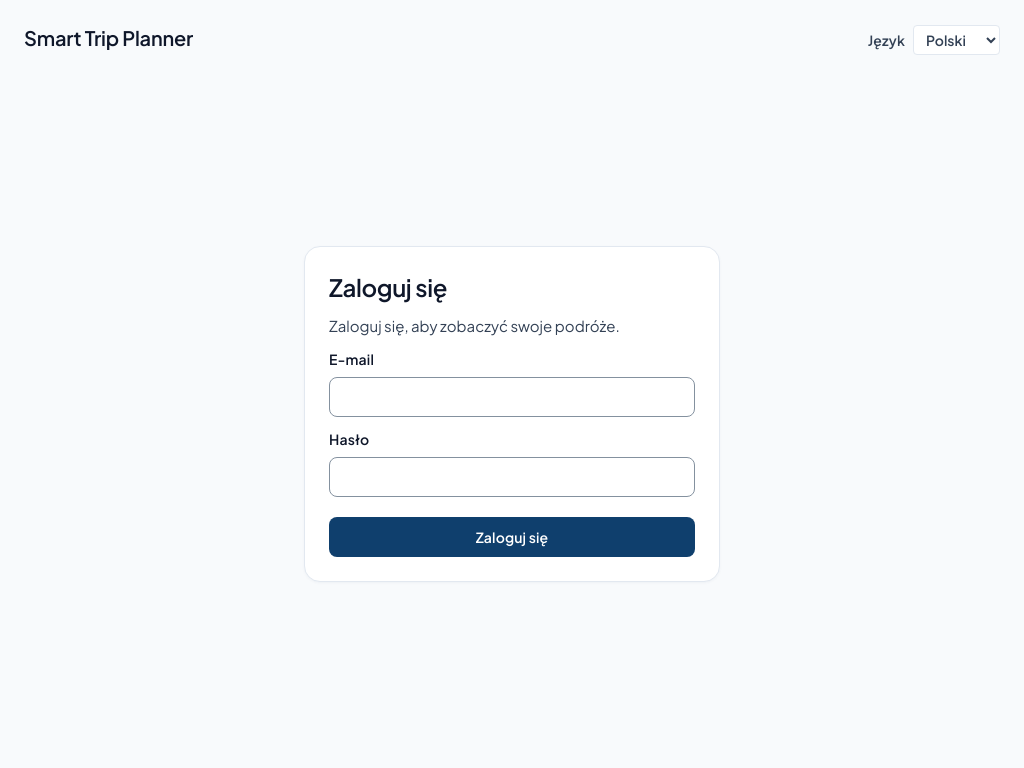
Test: the login form › signs in and lands on the path the visitor was going to
Type "owner@example.com" into the field labelled "E-mail" at (512, 397), box [329,377,695,417]
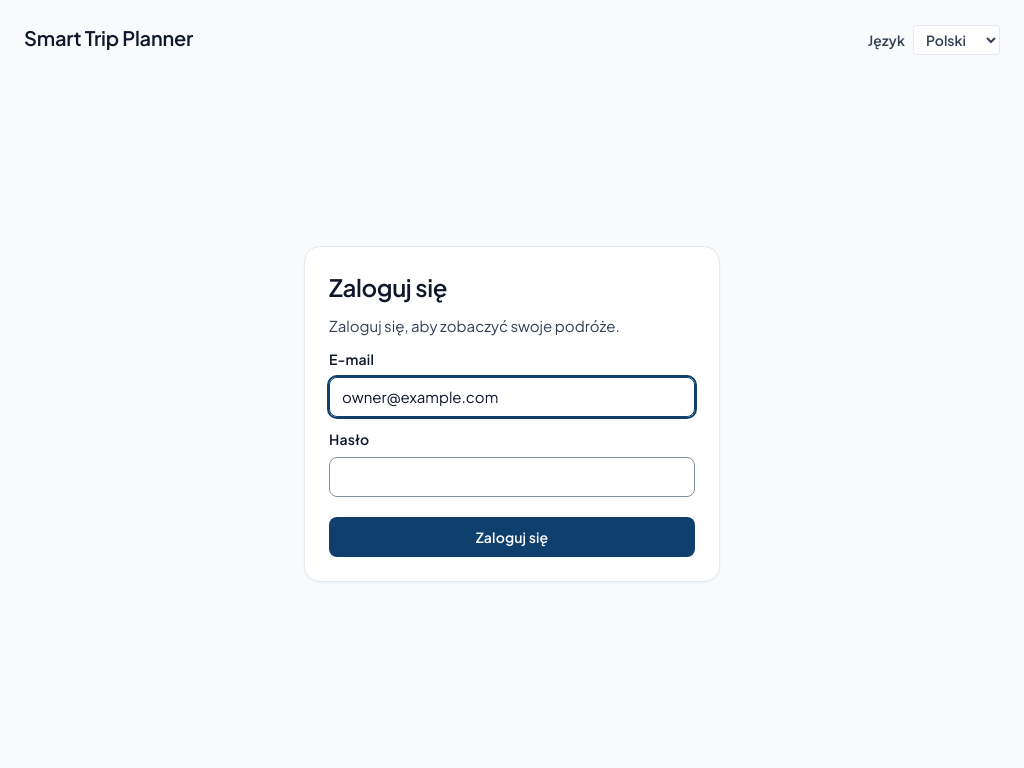
Type "a-password" into the password field labelled "Hasło" at (512, 477), box [329,457,695,497]
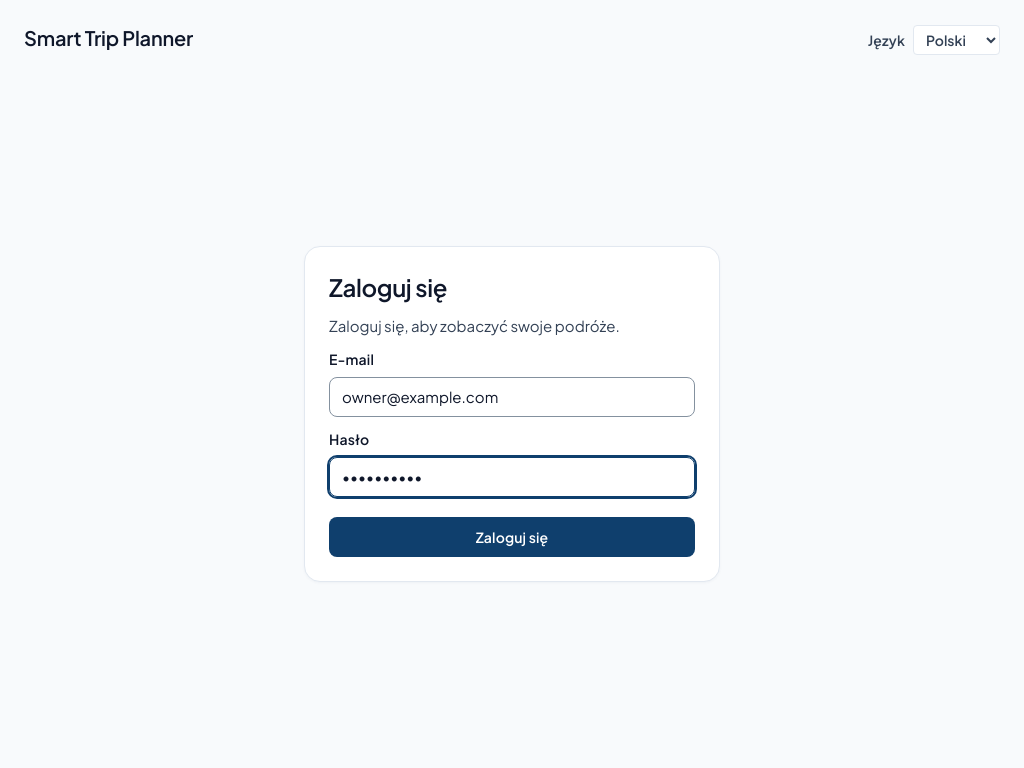
Click the button "Zaloguj się" at (512, 537), box [329,517,695,557]
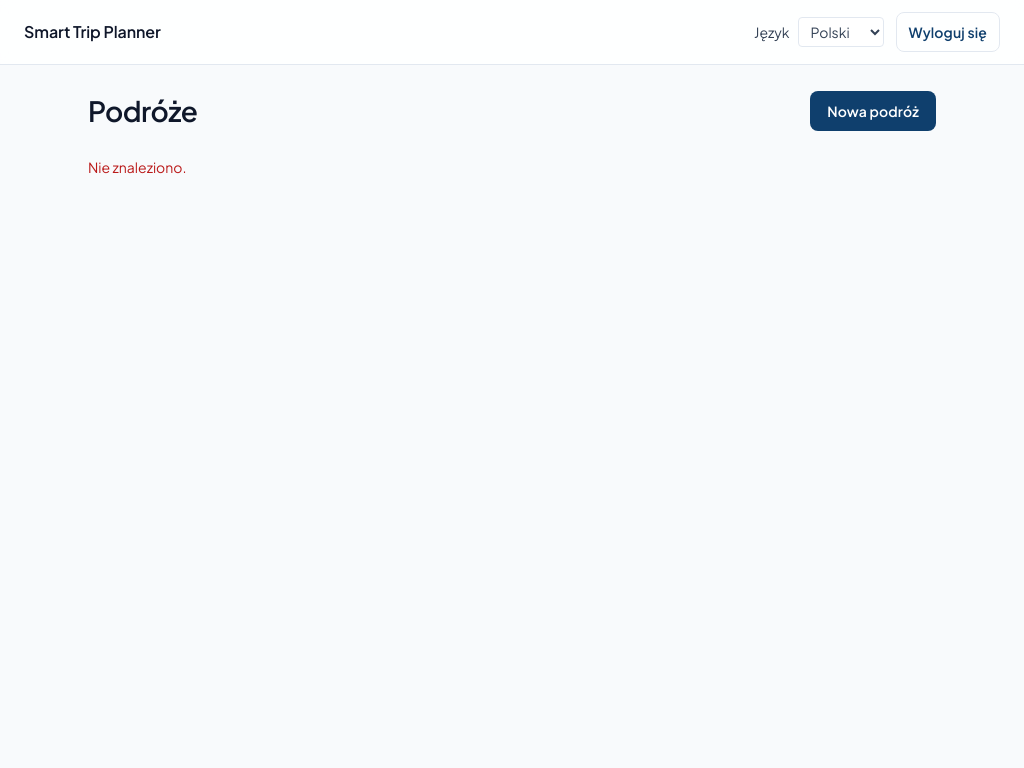
Expected: the heading "Podróże" is shown, [88,89,197,133]
